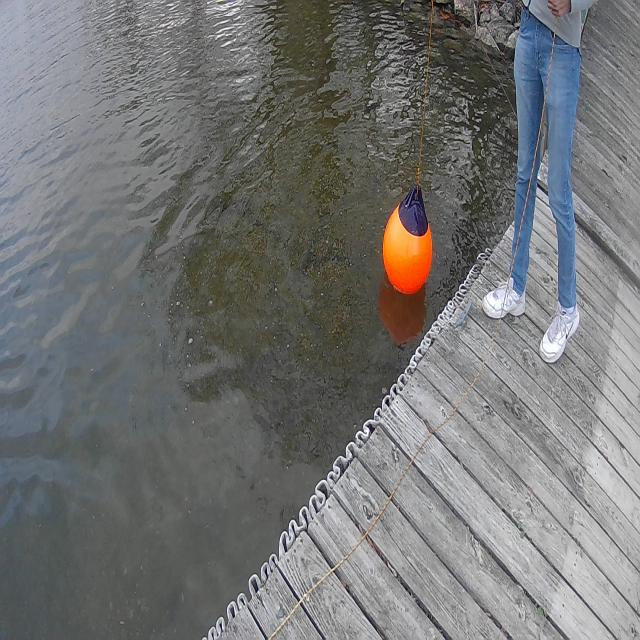Buoy: (381, 198, 434, 296)
